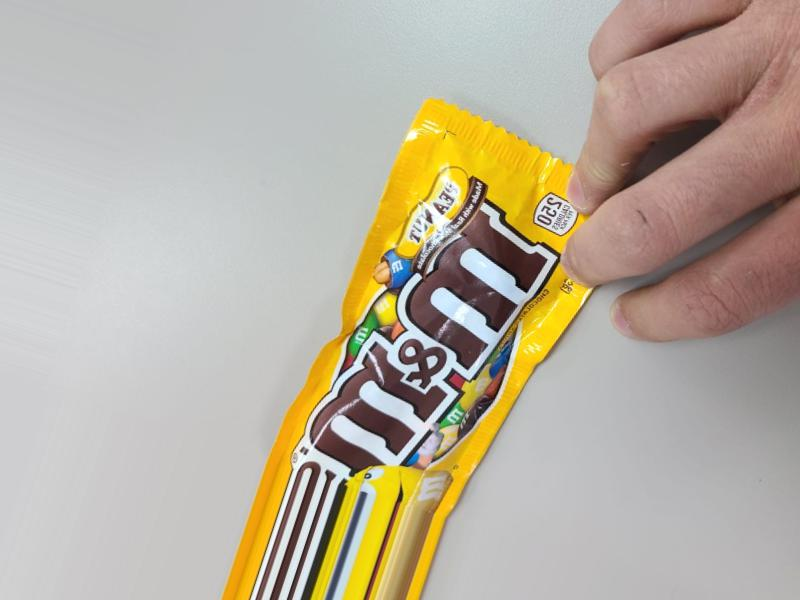m&m: (296, 78, 567, 600)
